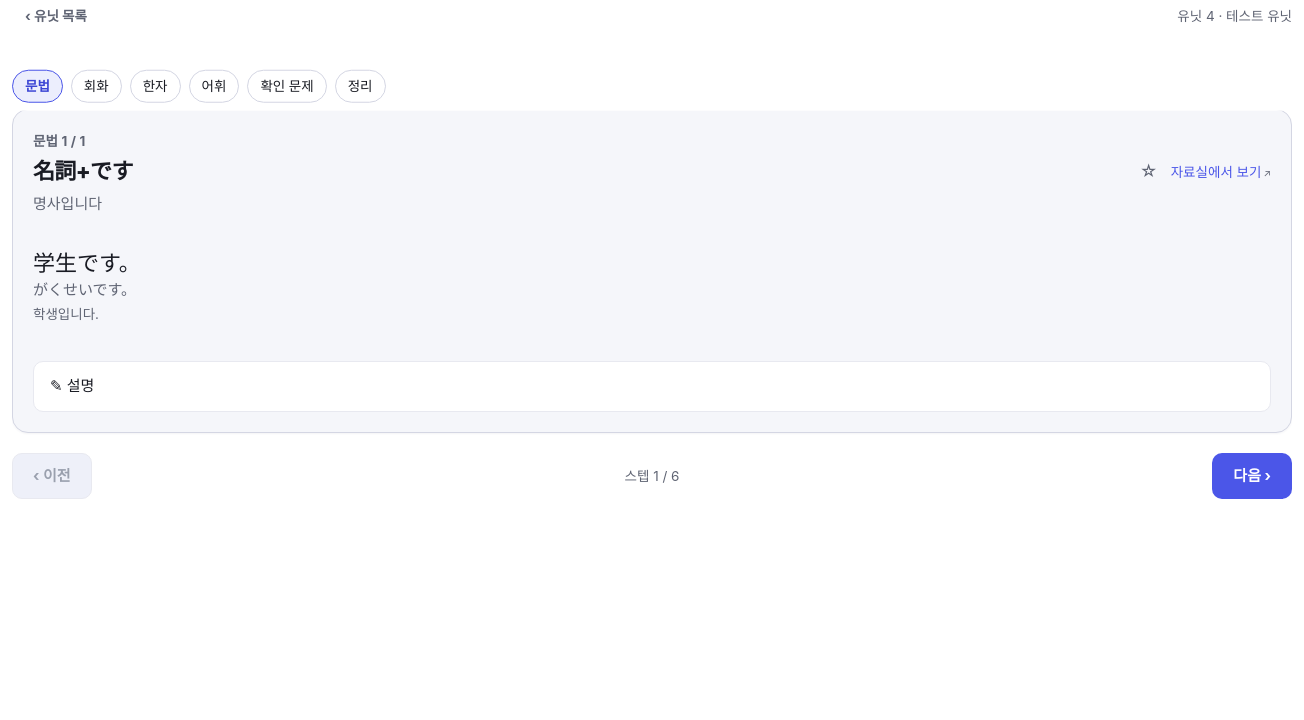
it: 확인 문제 스텝 (Q1·Q2) › 스텝 바에 [확인 문제] 칩이 있고 자유롭게 이동할 수 있다 (Q1)
Click the button "확인 문제": x=287, y=86 [247,70,327,102]
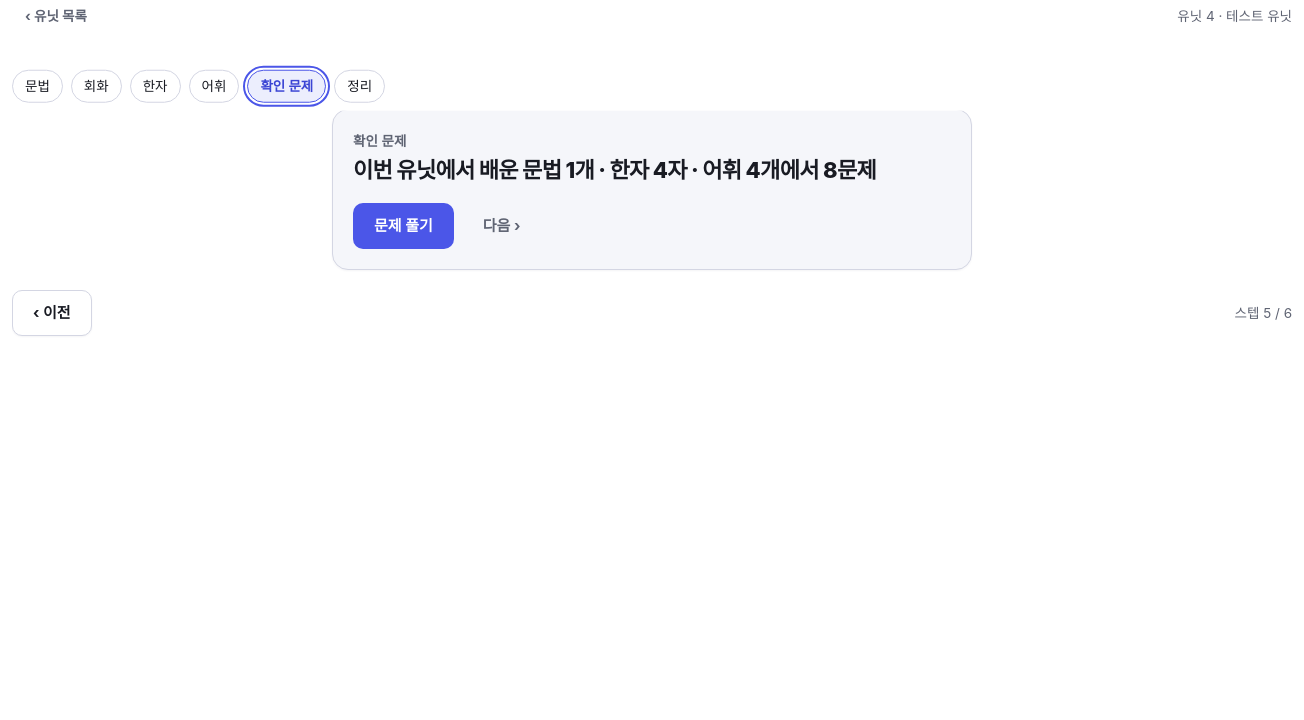
Now the button "문제 풀기" is shown, box [353,204,454,250]
